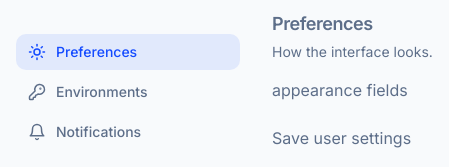
Test: SettingsLayout › renders a section footer only for the section that owns it
Expected: the button "Save user settings" is shown, 272,126 -> 411,150
Click the button "Notifications" at [128, 132], box 16,114 -> 240,150
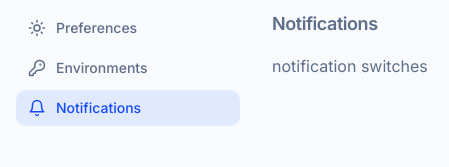
Expected: the button "Save user settings" is gone
